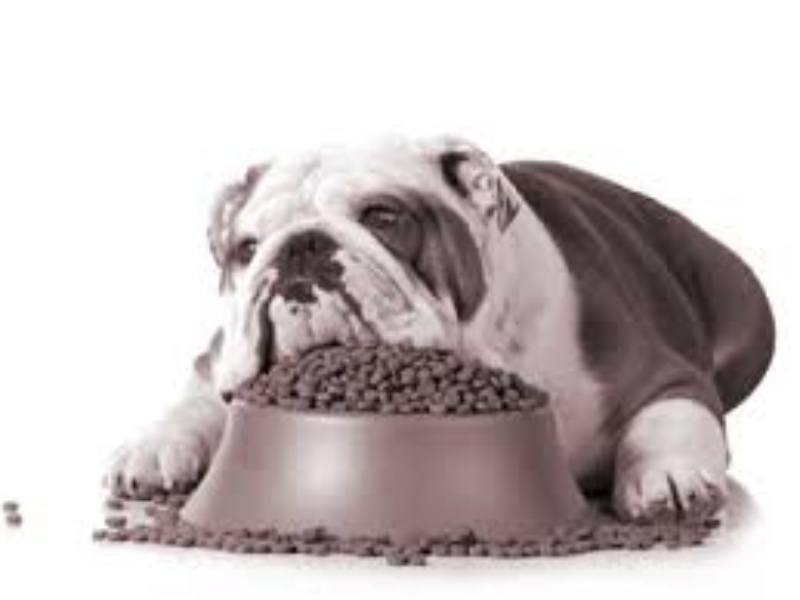dog: (106, 121, 793, 544)
